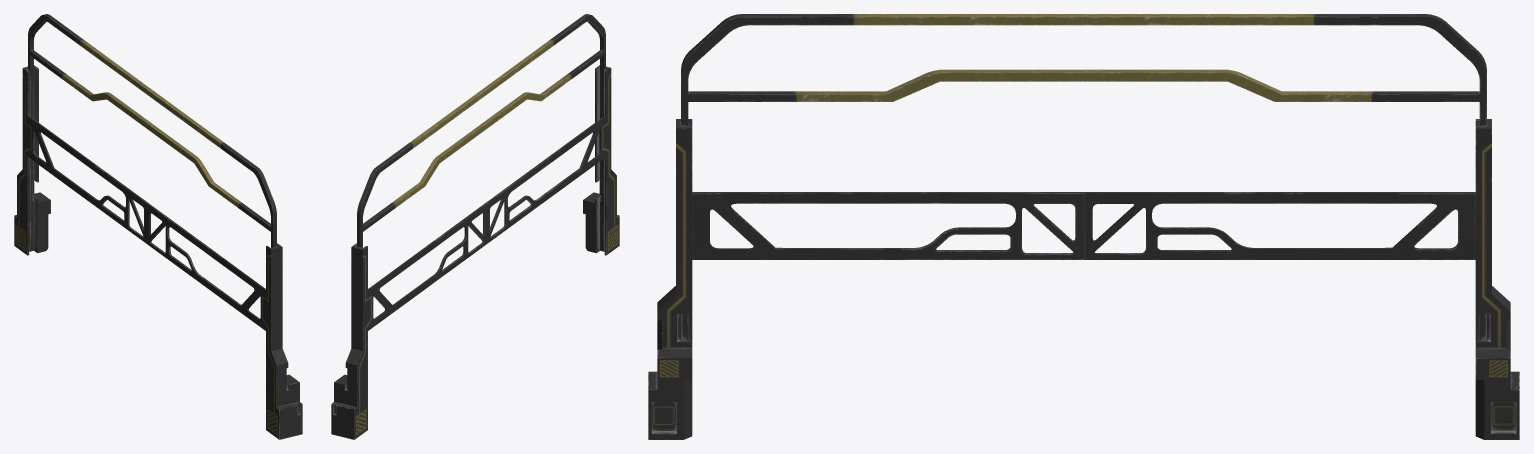
The model's file is c069-opt.glb.
3 renders of one model, left to right at view 1: azimuth 30°, elevation 25°; view 2: azimuth 150°, elevation 25°; view 3: azimuth 270°, elevation 25°, orthographic. The views are drawn at different scales.
Visible parts, largest first — view 1: Cube.069; view 2: Cube.069; view 3: Cube.069.
Boxes of the visible parts, x1,y1,x2,y2 form: Cube.069: [14, 14, 302, 439]; Cube.069: [331, 14, 619, 439]; Cube.069: [648, 14, 1519, 439].
Size of the model in its own units: 0.1079 by 1.1 by 2.12.
Materials: 1 (1 with a texture image).
